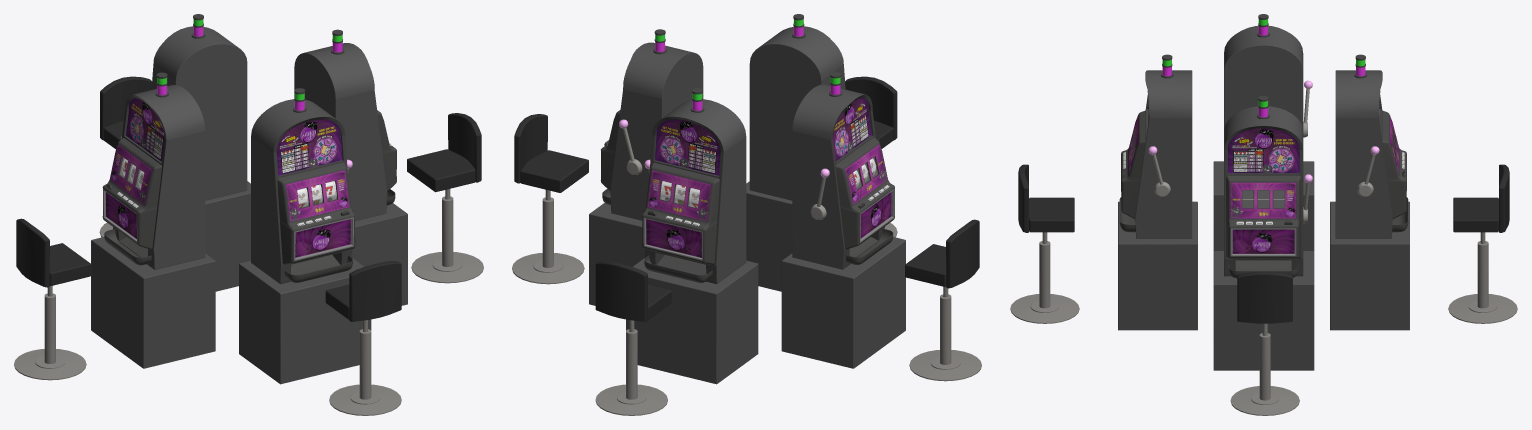
File: slot-machine.glb
3 renders of one model, left to right at view 1: azimuth 30°, elevation 25°; view 2: azimuth 150°, elevation 25°; view 3: azimuth 270°, elevation 25°, orthographic. The views are drawn at different scales.
Visible parts, largest first — view 1: Cabinet, Stool; view 2: Cabinet, Stool; view 3: Cabinet, Stool.
Part boxes in pixels (<box>): Cabinet: <box>14,14,407,415</box>; Stool: <box>407,113,483,283</box>; Cabinet: <box>589,14,981,415</box>; Stool: <box>512,114,588,284</box>; Cabinet: <box>1010,14,1517,370</box>; Stool: <box>1230,271,1299,415</box>.
Size of the model in its own units: 3.65 by 2 by 3.65.
20 materials, 7 textured.
